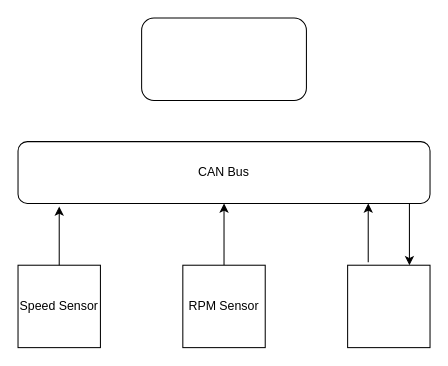
This 448x366 diagram has some shape labels left out. The shapes that lost their labels are listed below. From the top down, each one's centre as x and y in pixels, then its label:
At point (223, 58): "Vehicle's DigitalTwin".
At point (388, 306): "Frontlight Sensor/ Actuator".
